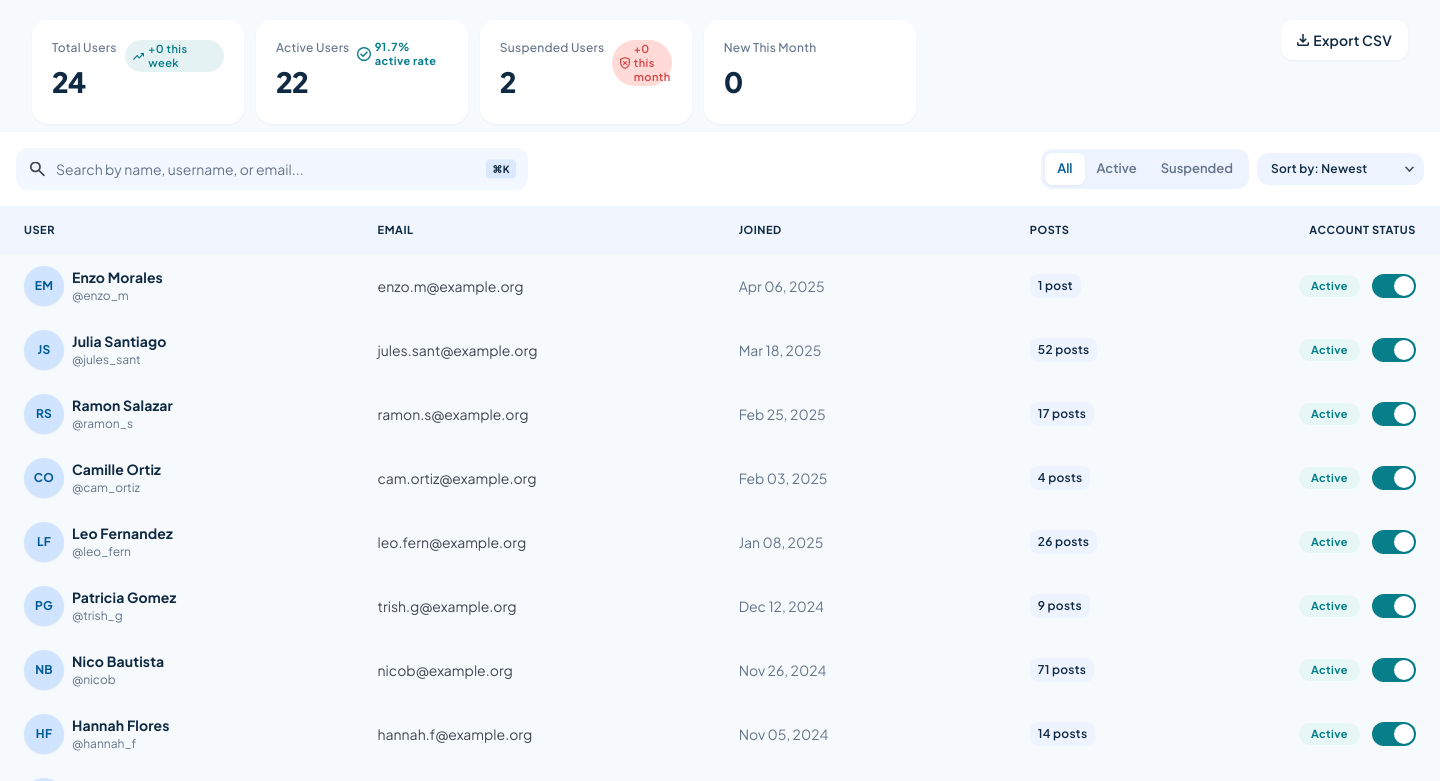
UserManagementScreen › shows the empty state when the search matches nobody
expect the text "Enzo Morales" is shown: met, box 72,267 -> 163,287
In the search field named "Search users": (272, 169) 16,148 -> 528,190, type "zzz-no-match"
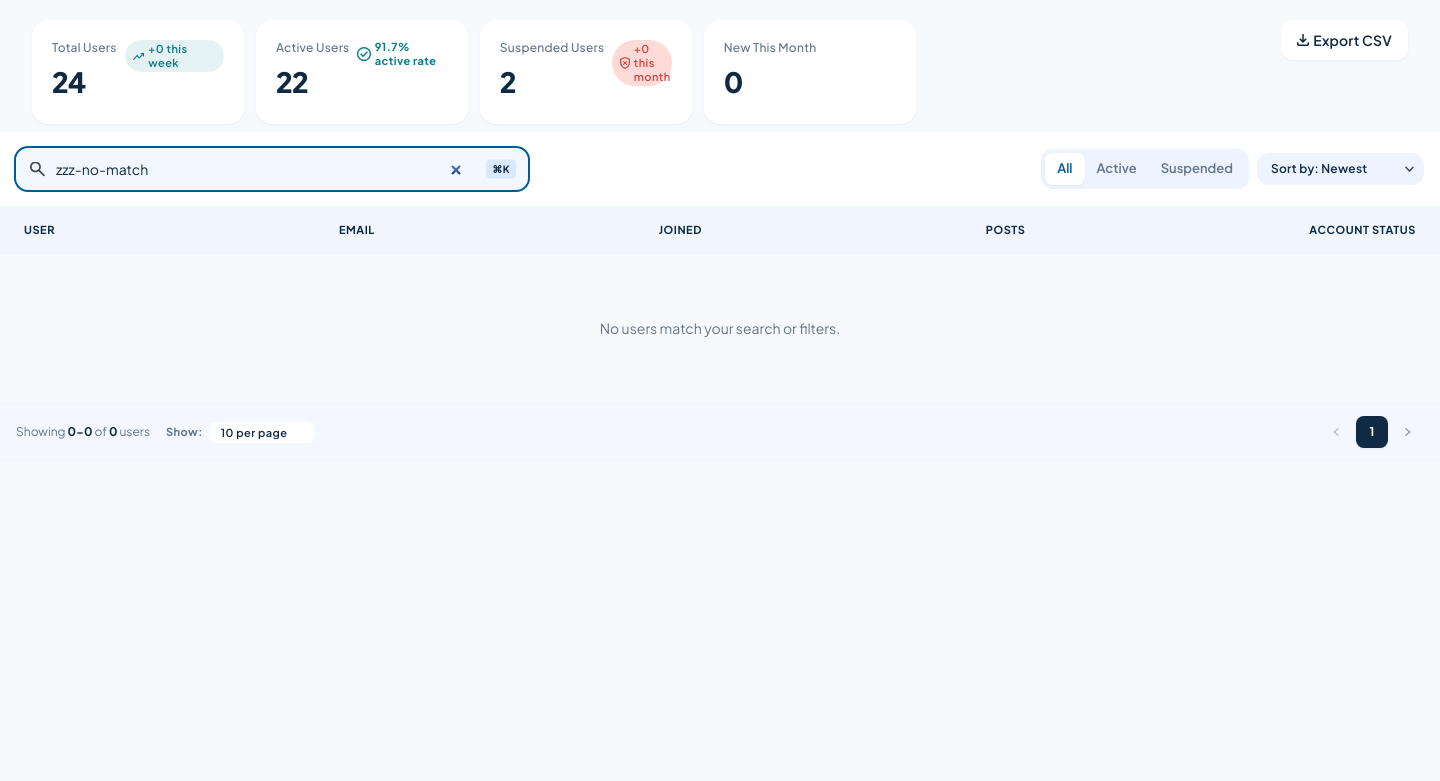
expect the text "No users match your search or filters." is shown: met, box 0,254 -> 1439,402
